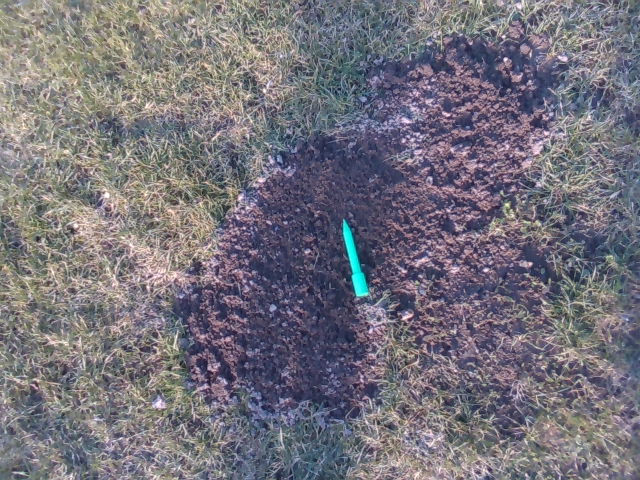Probe: (339, 213, 370, 307)
